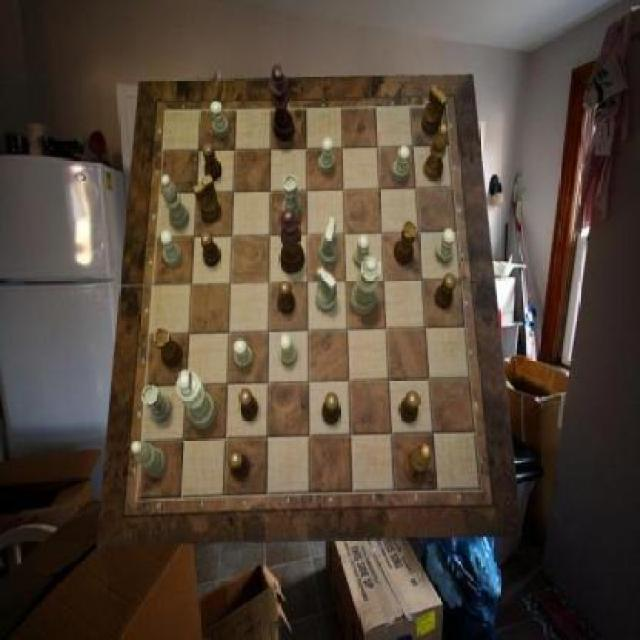bishop: (423, 123, 448, 181), (404, 445, 432, 482)
black-bishop: (269, 65, 296, 142)
black-king: (423, 84, 448, 136), (194, 174, 220, 223)
black-knight: (435, 274, 458, 310), (200, 231, 221, 267), (203, 143, 222, 181), (398, 392, 419, 425), (240, 388, 260, 422), (277, 280, 295, 315), (229, 451, 250, 480), (322, 392, 339, 426)
black-pawn: (278, 210, 306, 276)
black-queen: (154, 328, 183, 368), (394, 221, 417, 267)
black-rook: (162, 174, 189, 230), (132, 442, 168, 479)
white-bishop: (177, 371, 217, 431)
white-king: (320, 217, 340, 266), (316, 268, 336, 314)
white-knight: (160, 229, 182, 268), (437, 229, 457, 264), (318, 137, 336, 175), (278, 334, 298, 368), (210, 102, 228, 139), (392, 146, 410, 181), (234, 340, 254, 371), (354, 234, 371, 268)
white-pawn: (351, 257, 381, 315)
white-queen: (142, 386, 172, 425), (282, 176, 300, 222)
